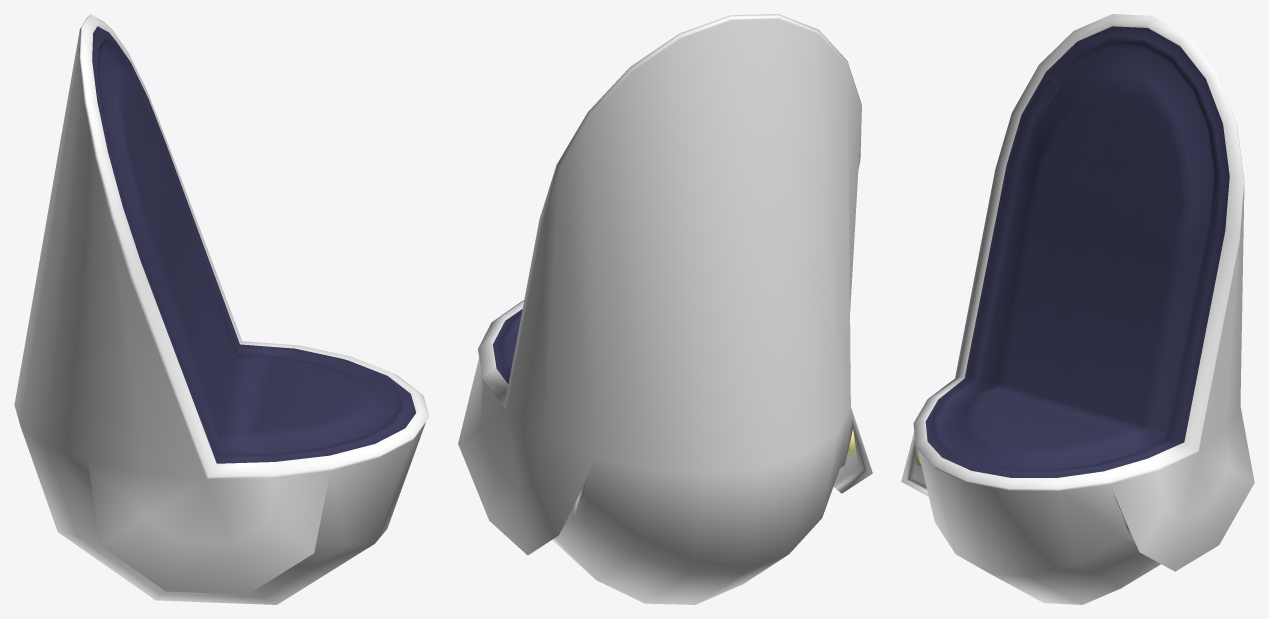
Rendered from Bridge_Chair_04_Mesh.fbx.
The picture shows the model from 3 angles, left to right: view 1: azimuth 30°, elevation 25°; view 2: azimuth 150°, elevation 25°; view 3: azimuth 270°, elevation 25°; orthographic projection. The views are drawn at different scales.
Visible parts, largest first — view 1: Bridge_Chair_04_Mesh; view 2: Bridge_Chair_04_Mesh; view 3: Bridge_Chair_04_Mesh.
Boxes of the visible parts, x1,y1,x2,y2 form: Bridge_Chair_04_Mesh: (14, 14, 429, 604); Bridge_Chair_04_Mesh: (458, 14, 872, 604); Bridge_Chair_04_Mesh: (901, 14, 1254, 604).
Size of the model in its own units: 269 by 434 by 266.
